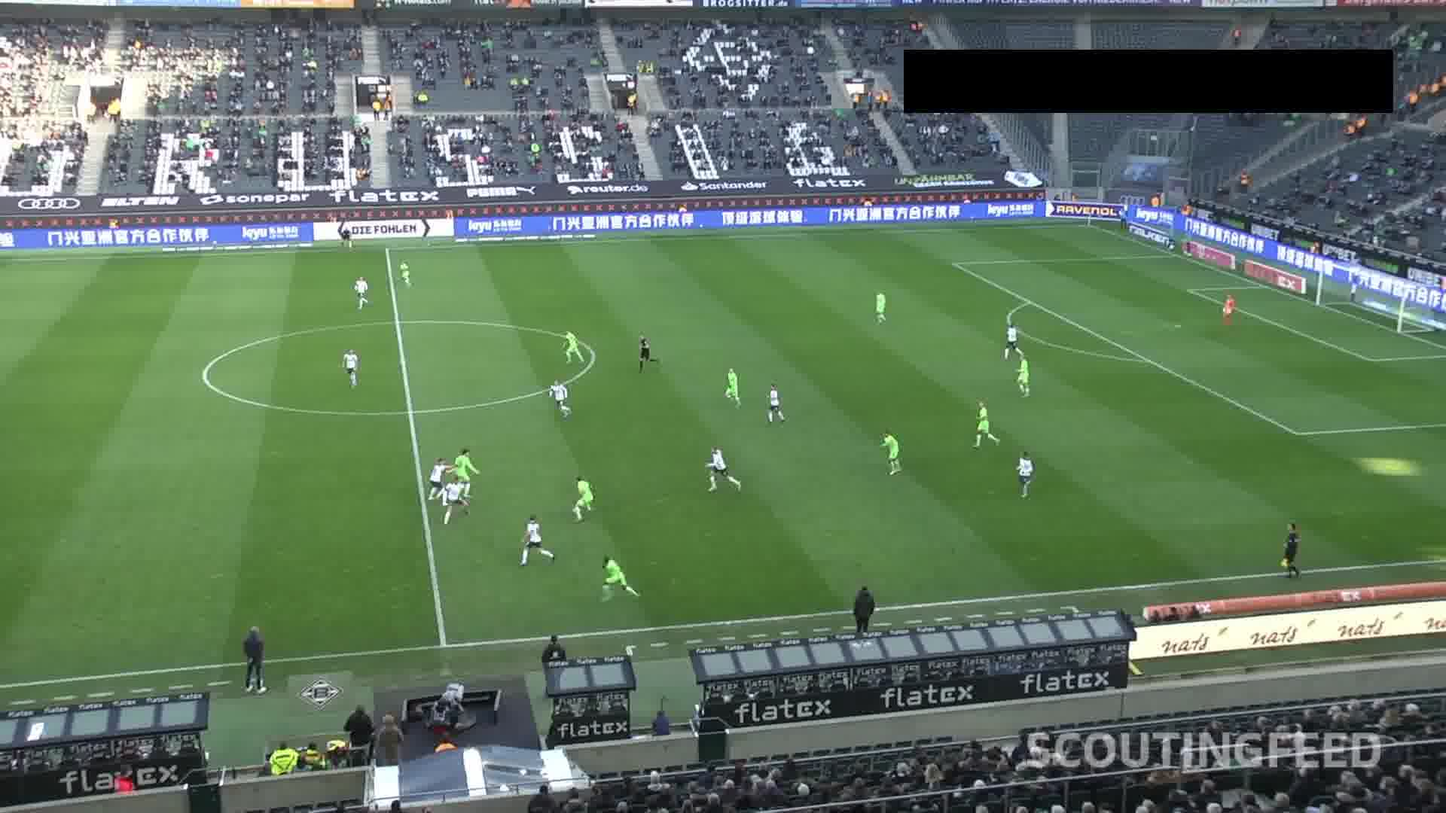ball: (559, 497, 580, 516)
coach_staff: (540, 624, 571, 693), (852, 575, 881, 642), (242, 627, 270, 693)
goalkeeper: (1216, 281, 1238, 329)
player: (512, 509, 556, 570), (564, 468, 599, 526), (594, 552, 635, 601), (438, 477, 472, 531), (704, 443, 739, 494), (969, 394, 1000, 449), (420, 450, 448, 498), (872, 427, 902, 470), (1010, 350, 1037, 396), (453, 430, 474, 489), (546, 381, 576, 422), (556, 326, 586, 366), (1014, 447, 1036, 498), (720, 363, 744, 406), (762, 384, 787, 425), (348, 274, 373, 312), (340, 350, 363, 386), (1002, 315, 1022, 355), (397, 260, 422, 291), (875, 286, 890, 322)
referee: (633, 324, 661, 375), (1283, 519, 1303, 577), (340, 217, 355, 252)
